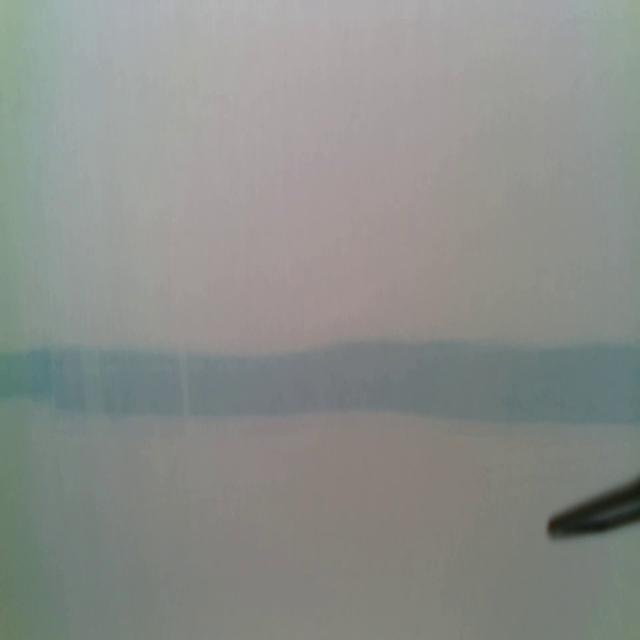color bleeding: (0, 334, 640, 434)
